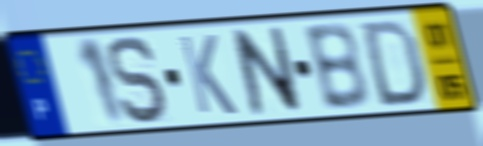1: (75, 34, 129, 130)
B: (300, 20, 373, 114)
D: (360, 17, 428, 110)
K: (175, 32, 241, 118)
N: (228, 24, 305, 118)
S: (106, 33, 172, 126)
